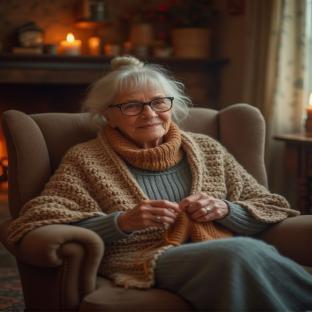Human: (9, 56, 312, 312)
